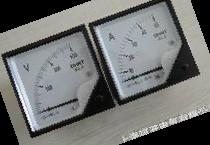pointer: (6, 32, 102, 131), (93, 1, 185, 100)
